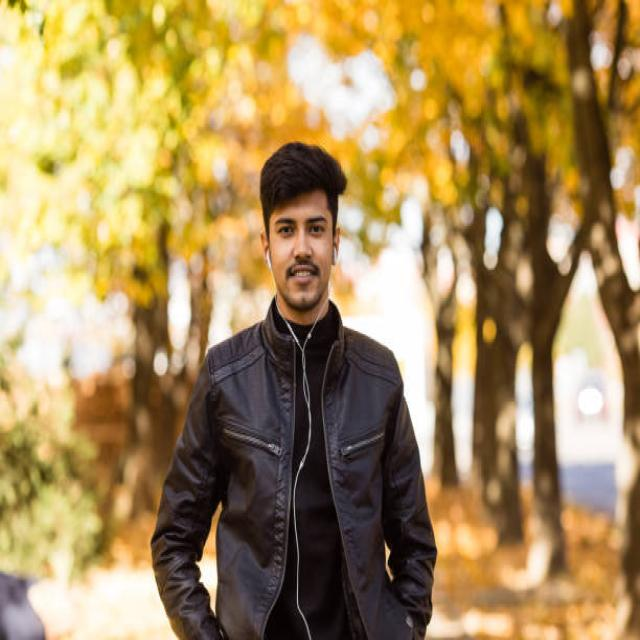Earphone: (266, 244, 338, 640)
